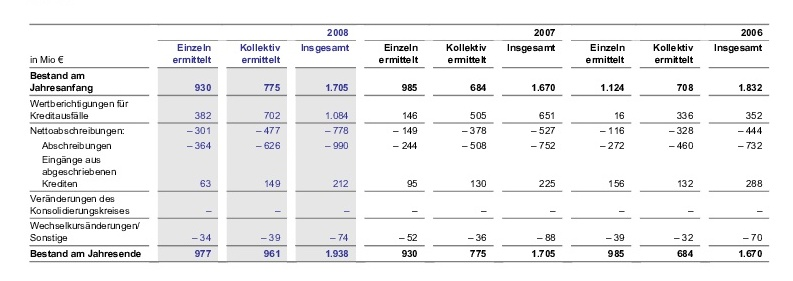table: (0, 0, 793, 281)
